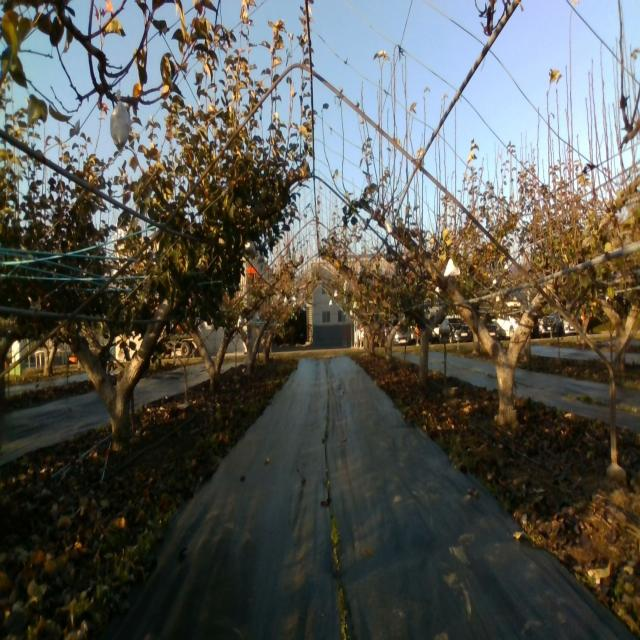pearbags: (109, 89, 131, 154), (444, 255, 461, 278), (384, 213, 396, 236), (244, 234, 256, 253)
